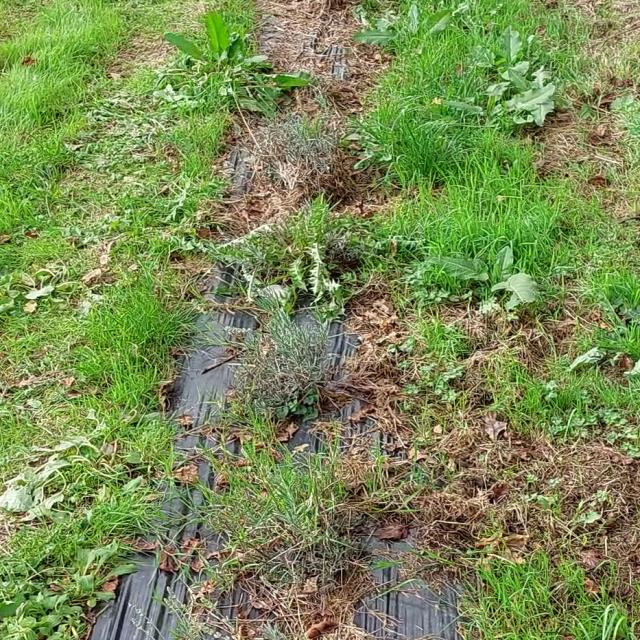organic waste: (423, 243, 583, 333), (168, 8, 290, 115), (2, 436, 143, 522), (494, 62, 586, 124), (8, 255, 80, 325), (370, 0, 487, 43), (438, 80, 518, 128), (478, 38, 544, 83)
